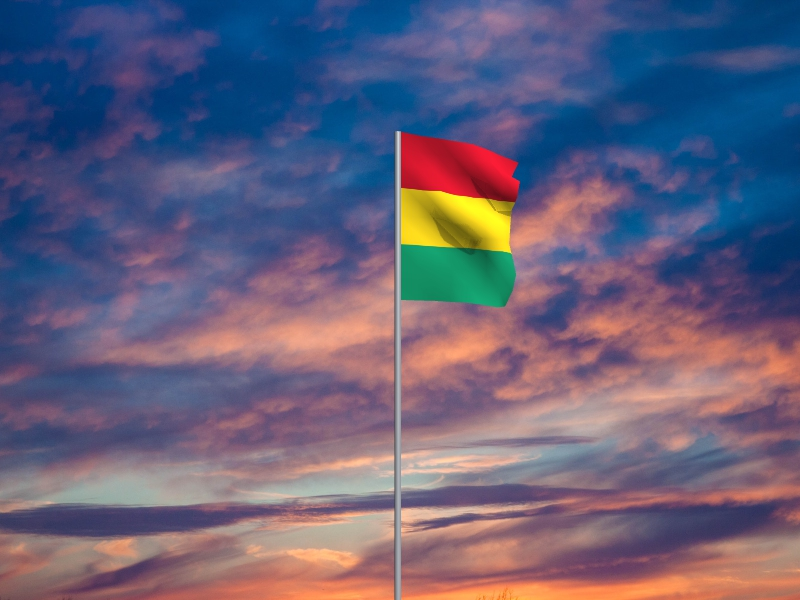gn: (402, 133, 521, 309)
